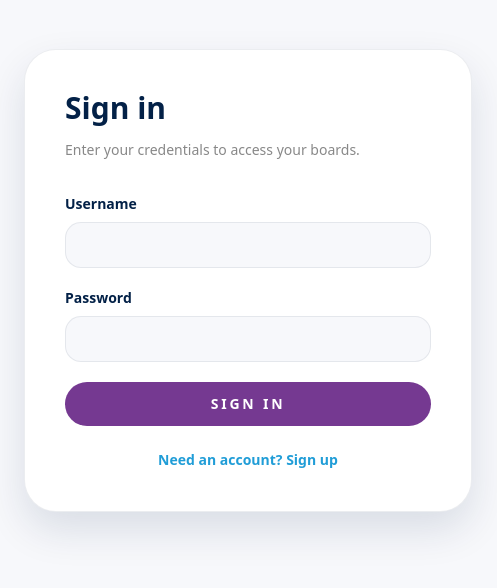
Scenario: LoginGate › shows the lockout message verbatim instead of a generic error
Check: the heading "Sign in" is shown, box [65,86,166,128]
Type "alice" into the field labelled "Username" at [248, 244], box [65,222,431,268]
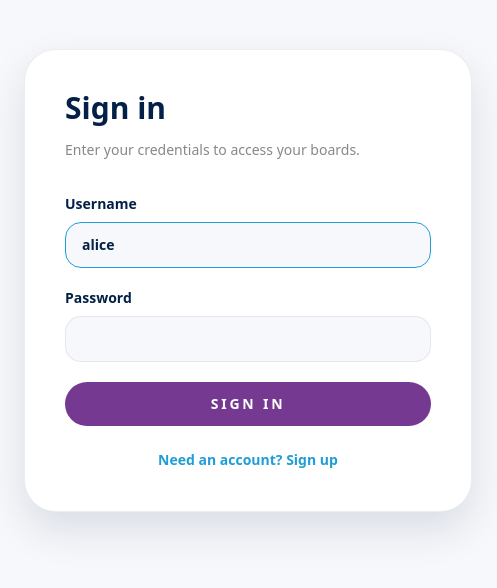
Type "whatever" into the password field labelled "Password" at [248, 338], box [65,316,431,362]
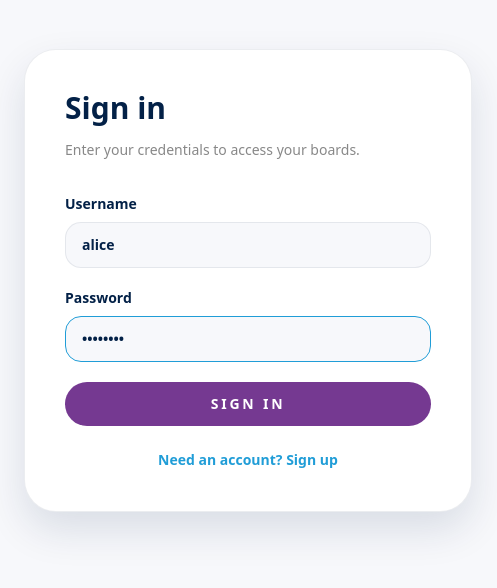
Click the button "Sign in" at [248, 404], box [65,382,431,426]
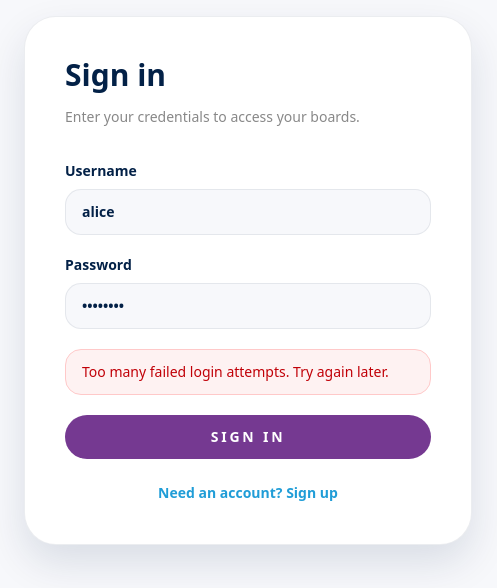
Check: the text "Too many failed login attempts. Try again later." is shown, box [65,348,431,394]
